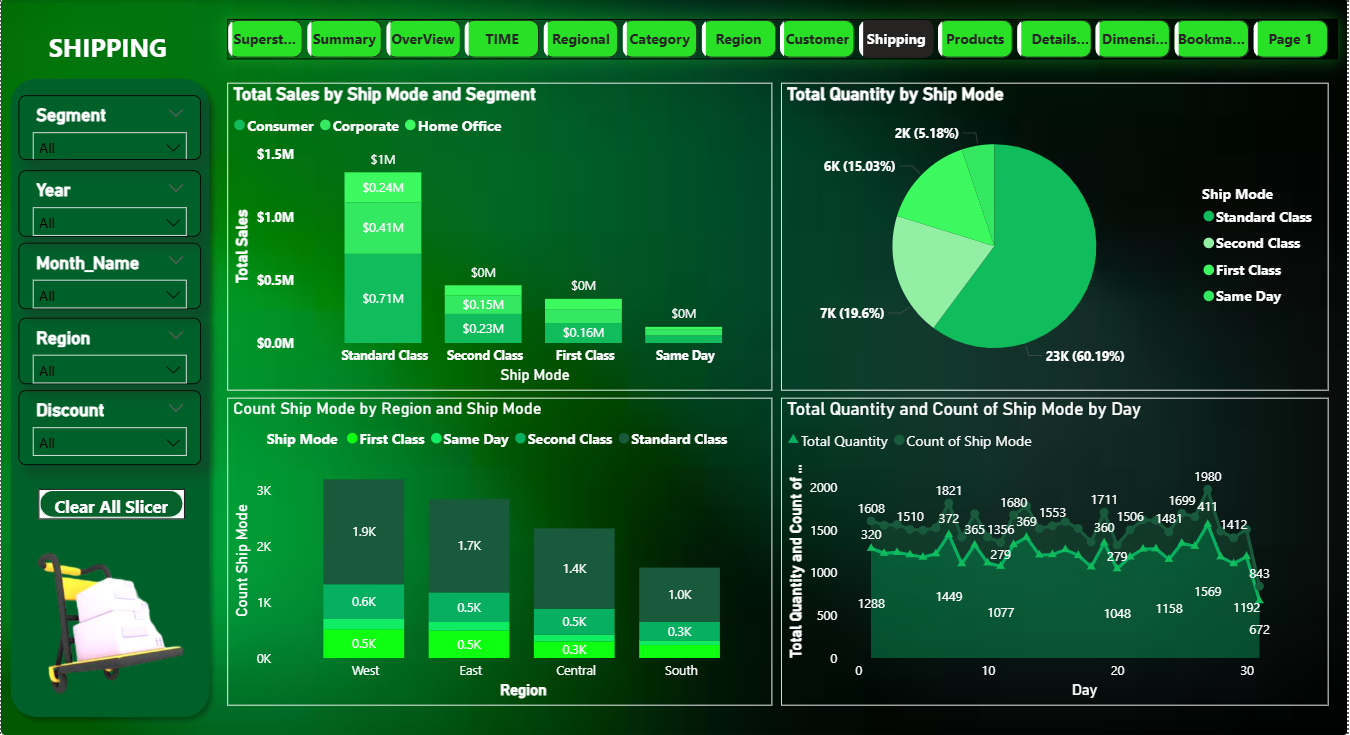

This screenshot's page, from the dashboard's own definition file:
{"tool":"powerbi","page":{"name":"Shipping","canvas":[1280,700],"ordinal":8},"visuals":[{"type":"image","box":[0,0,1280.4,700.2],"z":0},{"type":"shape","box":[0,66.6,206.9,625.3],"z":1000},{"type":"textbox","box":[26.2,83.2,108.2,44],"z":2000},{"type":"textbox","box":[13.1,25,177.1,41.6],"z":3000},{"type":"slicer","fields":{"Values":["Superstore.Segment"]},"box":[16.6,91.5,173.6,61.8],"z":4000},{"type":"slicer","fields":{"Values":["date_table.Month_Name"]},"box":[16.6,231.8,173.6,63],"z":5000},{"type":"slicer","fields":{"Values":["date_table.Year"]},"box":[16.6,162.9,173.6,63],"z":6000},{"type":"slicer","fields":{"Values":["Superstore.Region"]},"box":[16.6,303.2,173.6,63],"z":7000},{"type":"shape","box":[35.7,466,139.1,28.5],"z":8000},{"type":"slicer","fields":{"Values":["Superstore.Discount"]},"box":[16.6,372.1,173.6,71.3],"z":9000},{"type":"columnChart","fields":{"Category":["Superstore.Ship Mode"],"Series":["Superstore.Segment"],"Y":["All measures.Total Sales"]},"box":[215.2,79.7,518.3,292.5],"z":10000},{"type":"pieChart","fields":{"Category":["Superstore.Ship Mode","Superstore.Sub-Category"],"Y":["All measures.Total Quantity"]},"box":[741.9,79.7,520.7,292.5],"z":11000},{"type":"columnChart","fields":{"Category":["Superstore.Region"],"Series":["Superstore.Ship Mode"],"Y":["All measures.Count Ship Mode"]},"box":[215.2,379.2,518.3,292.5],"z":12000},{"type":"stackedAreaChart","fields":{"Category":["Superstore.Ship Date.Variation.Date Hierarchy.Day"],"Y":["All measures.Total Quantity","CountNonNull(Superstore.Ship Mode)"]},"box":[741.9,379.2,520.7,292.5],"z":13000},{"type":"image","box":[19,513.6,166.4,158.1],"z":14000},{"type":"pageNavigator","box":[215.2,19,1055.7,38],"z":15000}]}

Visuals, with their boxes in screenshot pixels (x1, y1, x2, y2), scaled from the page's 1280x700 canvas onto the 1350x735 screenshot:
image: bbox(0, 0, 1349, 734)
shape: bbox(0, 70, 218, 726)
textbox: bbox(28, 87, 142, 134)
textbox: bbox(14, 26, 201, 70)
slicer - Superstore.Segment: bbox(18, 96, 201, 161)
slicer - date_table.Month_Name: bbox(18, 243, 201, 310)
slicer - date_table.Year: bbox(18, 171, 201, 237)
slicer - Superstore.Region: bbox(18, 318, 201, 385)
shape: bbox(38, 489, 184, 519)
slicer - Superstore.Discount: bbox(18, 391, 201, 466)
columnChart - Superstore.Ship Mode x Superstore.Segment: bbox(227, 84, 774, 391)
pieChart - Superstore.Ship Mode x Superstore.Sub-Category: bbox(782, 84, 1332, 391)
columnChart - Superstore.Region x Superstore.Ship Mode: bbox(227, 398, 774, 705)
stackedAreaChart - Superstore.Ship Date.Variation.Date Hierarchy.Day x All measures.Total Quantity: bbox(782, 398, 1332, 705)
image: bbox(20, 539, 196, 705)
pageNavigator: bbox(227, 20, 1340, 60)
